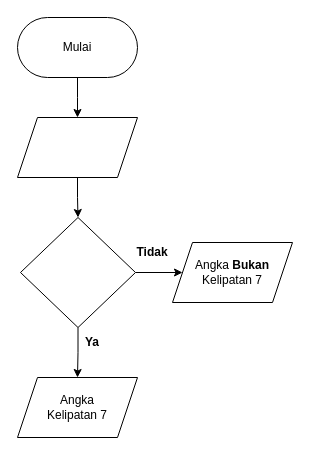
This 310x455 diagram has some shape labels left out. Here are the shapes that lost their labels. From the top down, the centre of each, then its label:
At point (77, 147): "Input angka > 0".
At point (78, 272): "angka % 7 == 0".
